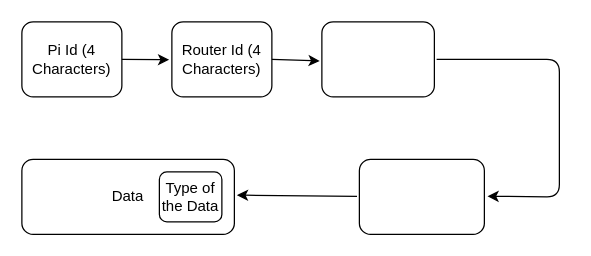
The diagram is 591 pixels wide and 256 high, and some of its shapes have lost their labels. Each missing label, with the centre of its shape:
Data Length (4 Characters): the point at 421,196
Gateway Id (4 Characters): the point at 377,59
